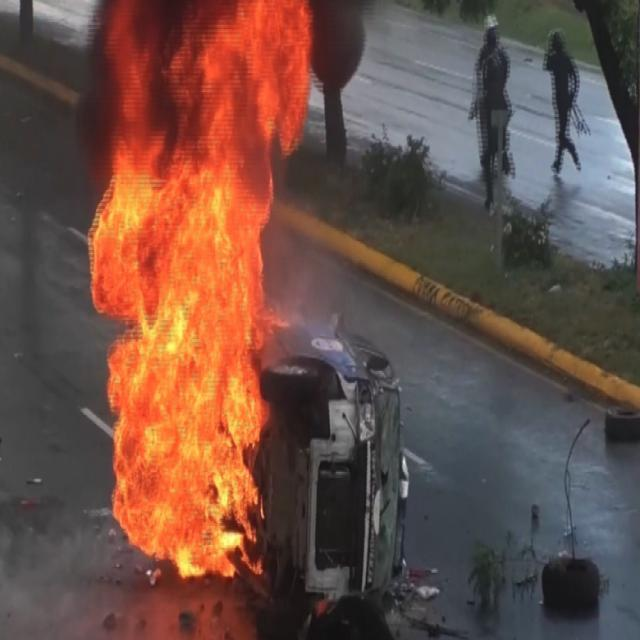Fire: (87, 3, 266, 574), (265, 0, 315, 169)
